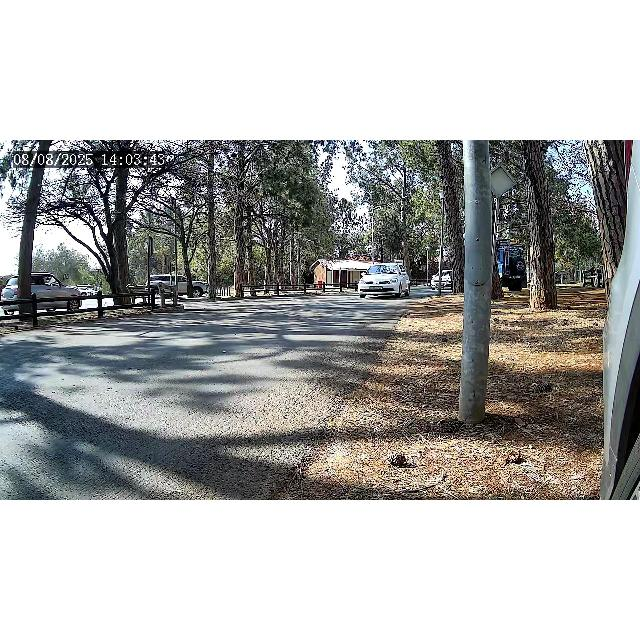car: (357, 264, 411, 298), (432, 270, 454, 294)
plate: (368, 287, 384, 291)
